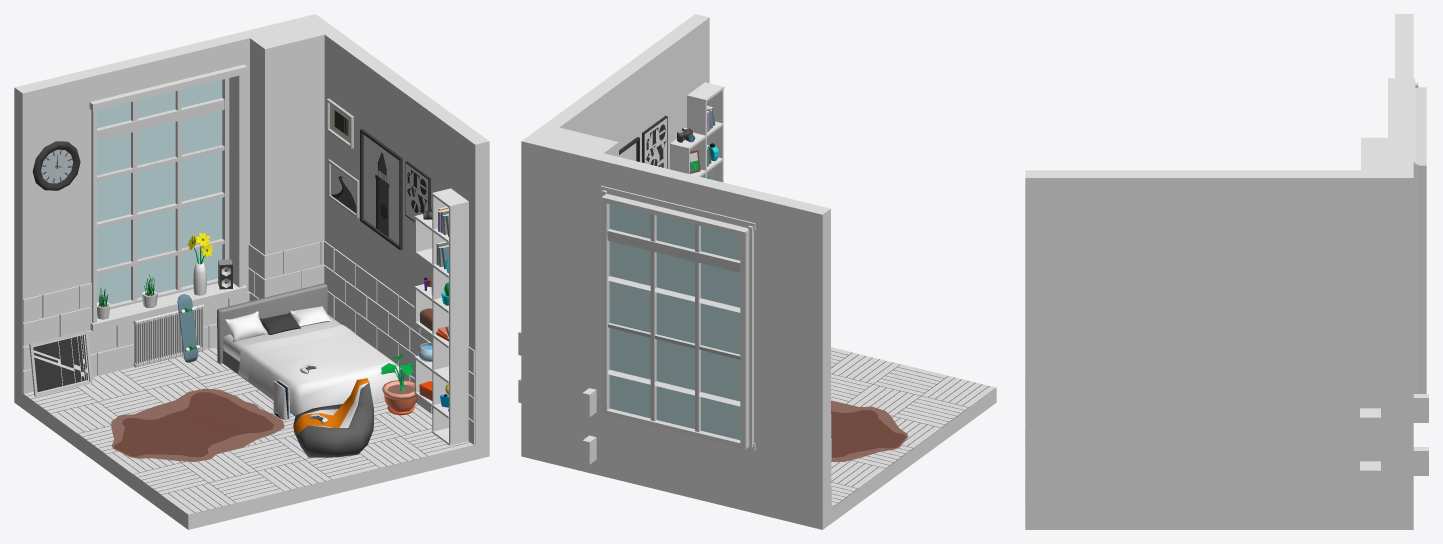
The model's file is room_16.glb.
3 renders of one model, left to right at view 1: azimuth 30°, elevation 25°; view 2: azimuth 150°, elevation 25°; view 3: azimuth 270°, elevation 25°, orthographic. The views are drawn at different scales.
Visible parts, largest first — view 1: window_041.001, Walls_006.031, Walls_005.313, Walls_006.033, bed_015.001, Walls_046.007, shelf_059.002, carpet_001.001, Walls_006.034, office_chair_003.001, picture_001.001, picture_012.001 (+44 smaller); view 2: window_041.001, Walls_006.033, Walls_006.032, Walls_006.031, Walls_006.035, Walls_046.007, Walls_006.034, carpet_001.001, shelf_059.002, carpet_017.012, carpet_017.001, carpet_017.002 (+10 smaller); view 3: Walls_006.031, window_041.001, Walls_006.034, Walls_005.310, Walls_005.313, Walls_006.032, Walls_006.033, Walls_005.334, Walls_005.355, Walls_005.309.
Part boxes in pixels (x1,y1,x2,y2): window_041.001: (97, 78, 229, 309); Walls_006.031: (301, 14, 489, 459); Walls_005.313: (250, 23, 324, 288); Walls_006.033: (14, 70, 94, 408); bed_015.001: (217, 283, 399, 416); Walls_046.007: (22, 347, 475, 529); shelf_059.002: (414, 188, 468, 445); carpet_001.001: (111, 388, 284, 461); Walls_006.034: (86, 35, 237, 100); office_chair_003.001: (293, 378, 373, 457); picture_001.001: (360, 129, 402, 250); picture_012.001: (29, 330, 92, 396); window_041.001: (601, 194, 749, 449); Walls_006.033: (751, 191, 830, 529); Walls_006.032: (535, 138, 615, 477); Walls_006.031: (521, 14, 709, 459); Walls_006.035: (607, 416, 750, 512); Walls_046.007: (831, 351, 996, 523); Walls_006.034: (607, 156, 758, 221); carpet_001.001: (831, 400, 908, 461); shelf_059.002: (670, 82, 724, 182); carpet_017.012: (894, 396, 967, 427); carpet_017.001: (922, 376, 995, 407); carpet_017.002: (874, 364, 947, 395); Walls_006.031: (1025, 170, 1413, 529); window_041.001: (1415, 87, 1426, 393); Walls_006.034: (1395, 53, 1413, 131); Walls_005.310: (1413, 162, 1418, 393); Walls_005.313: (1361, 137, 1394, 170); Walls_006.032: (1395, 131, 1413, 170); Walls_006.033: (1395, 14, 1413, 52); Walls_005.334: (1360, 461, 1380, 495); Walls_005.355: (1360, 408, 1380, 442); Walls_005.309: (1388, 78, 1415, 169).
Size of the model in its own units: 4.44 by 4.2 by 4.37.
Materials: 1 (1 with a texture image).
